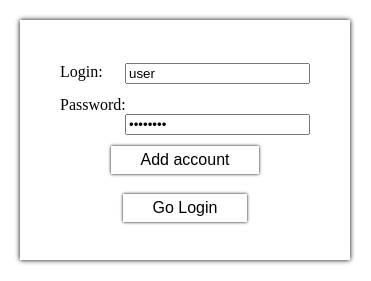
registerAccount when account not created
The width and height of the screenshot is (371, 281).
Click the button "Add account": coordinates (185, 160) [110,146,260,174]
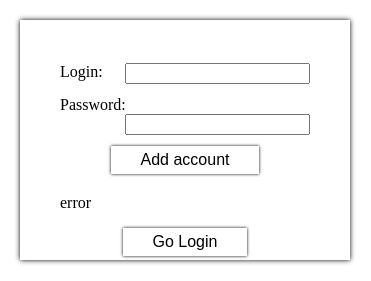
Now the text "error" is shown, box [60,194,91,211]
